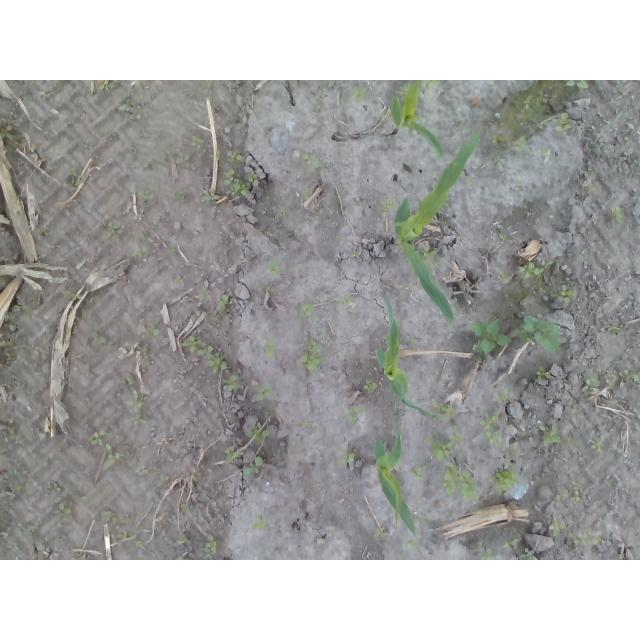Maize: (393, 133, 483, 320), (374, 290, 435, 419), (372, 432, 419, 540), (391, 80, 442, 158)
Weeds: (427, 428, 481, 504), (519, 312, 563, 352), (469, 320, 511, 357), (489, 465, 519, 495), (126, 376, 144, 425), (481, 412, 504, 449), (224, 165, 249, 195), (524, 89, 547, 121), (200, 343, 221, 374), (558, 480, 582, 504), (212, 293, 233, 320), (300, 340, 320, 368), (244, 423, 272, 441), (552, 283, 577, 303), (518, 262, 547, 279), (539, 422, 561, 444), (552, 111, 573, 134), (606, 369, 640, 383), (344, 405, 369, 424), (243, 455, 263, 478), (263, 335, 280, 362), (574, 530, 602, 546), (549, 513, 567, 536), (105, 443, 122, 467), (214, 149, 243, 163), (203, 532, 217, 560), (87, 430, 110, 447), (264, 257, 281, 279), (222, 375, 241, 393), (255, 383, 274, 401), (434, 404, 455, 420), (182, 334, 200, 352), (298, 301, 316, 319), (143, 319, 161, 337), (101, 510, 120, 527), (511, 134, 530, 151), (503, 533, 521, 550), (582, 375, 599, 393), (136, 189, 153, 207), (350, 85, 366, 104), (302, 154, 322, 169), (224, 445, 240, 463), (53, 503, 72, 518), (407, 463, 425, 478), (106, 222, 119, 242), (337, 452, 357, 465), (383, 198, 398, 215), (611, 207, 625, 225), (564, 80, 588, 90), (519, 548, 538, 560), (336, 292, 353, 305), (479, 548, 497, 560), (363, 379, 378, 393), (69, 169, 80, 188), (536, 367, 552, 380), (159, 466, 169, 486), (492, 131, 505, 145), (250, 519, 268, 529), (191, 134, 206, 146), (402, 536, 417, 548), (175, 534, 190, 546), (128, 247, 145, 257), (118, 96, 128, 113), (590, 437, 604, 449), (495, 388, 509, 400), (422, 247, 438, 257), (1, 131, 16, 141), (495, 153, 506, 166), (206, 192, 220, 202), (177, 151, 191, 161), (424, 81, 443, 88), (174, 191, 186, 202), (52, 481, 64, 492), (298, 419, 311, 429), (499, 271, 510, 282), (22, 525, 33, 536), (135, 540, 146, 551), (590, 167, 601, 177), (541, 147, 552, 157), (95, 335, 106, 345), (101, 84, 112, 94), (607, 324, 620, 332), (174, 556, 194, 561), (39, 227, 49, 237), (407, 338, 418, 347), (199, 288, 210, 297), (8, 424, 17, 435), (303, 188, 310, 201), (375, 528, 385, 537), (120, 532, 129, 541), (472, 357, 482, 365), (176, 276, 184, 284), (279, 208, 286, 217), (624, 136, 630, 145), (499, 235, 506, 242), (251, 175, 258, 182), (617, 553, 623, 560), (16, 485, 23, 491)
